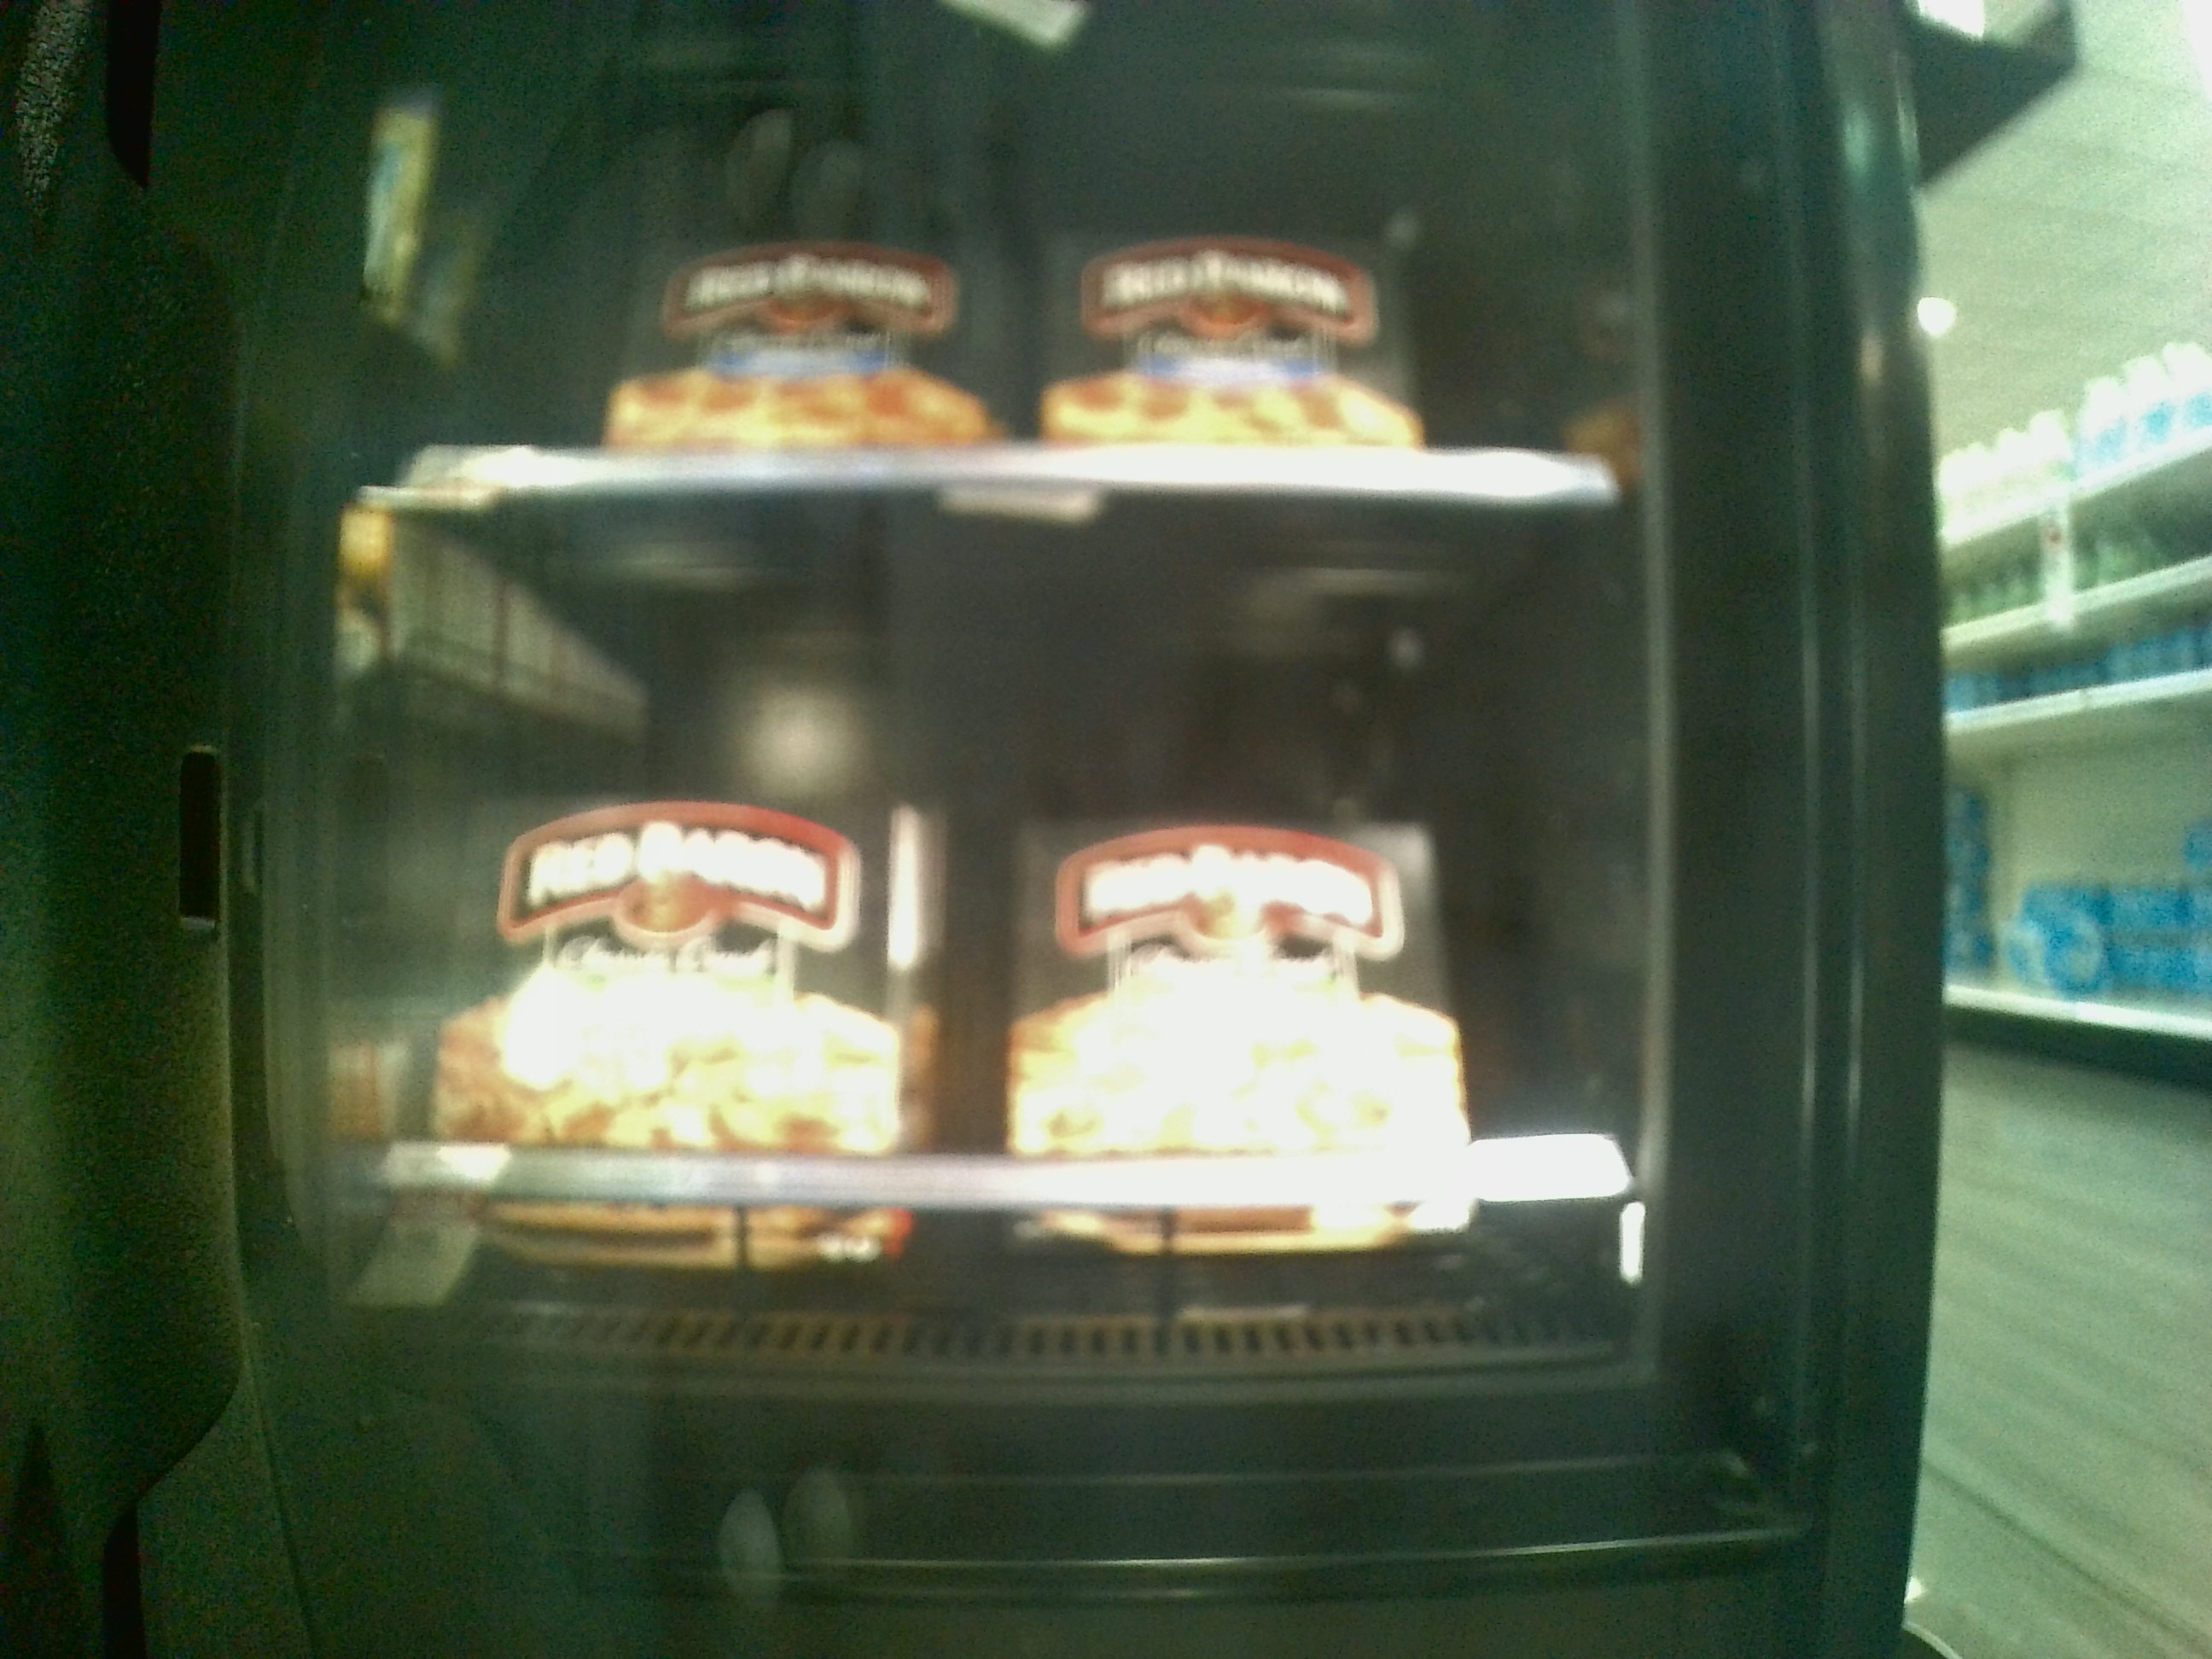shelf: (392, 523, 1627, 1358), (409, 0, 1635, 519)
